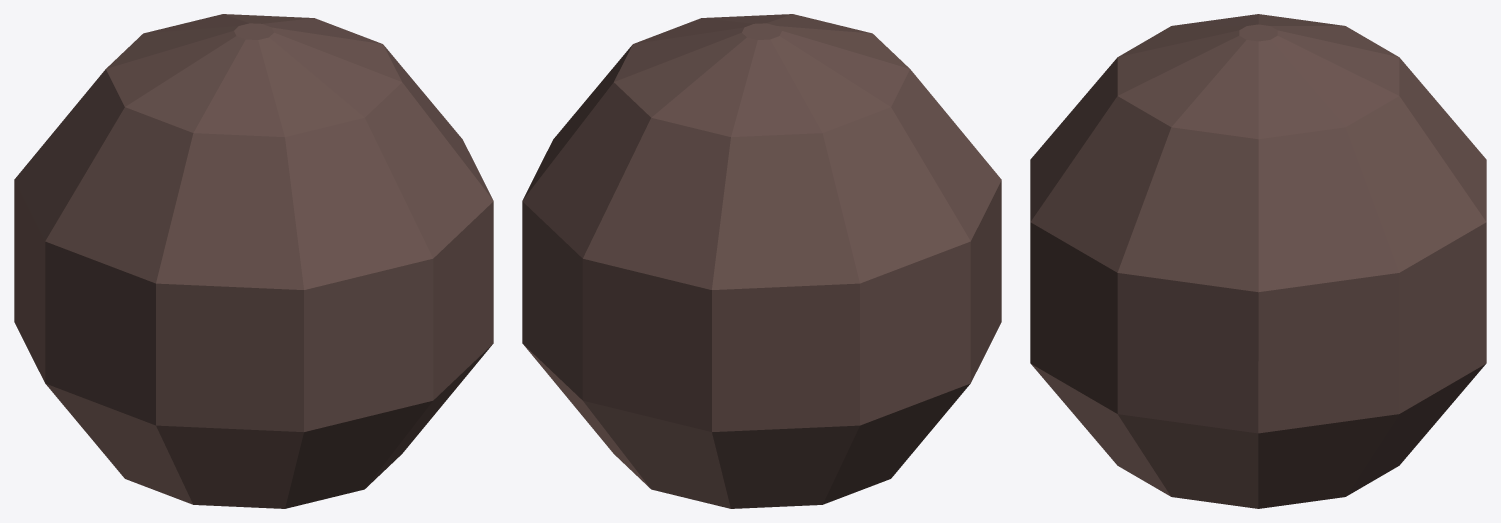
The model's file is DeltoidLeft.fbx.
3 views of the same model, side by side, from view 1: azimuth 30°, elevation 25°; view 2: azimuth 150°, elevation 25°; view 3: azimuth 270°, elevation 25° (orthographic).
Visible parts, largest first — view 1: DeltoidLeft; view 2: DeltoidLeft; view 3: DeltoidLeft.
Part boxes in pixels (x1,y1,x2,y2): DeltoidLeft: (14, 14, 493, 508); DeltoidLeft: (522, 14, 1001, 508); DeltoidLeft: (1030, 14, 1486, 508).
Bounding box in the file's own units: 0.1103 × 0.116 × 0.1049.
